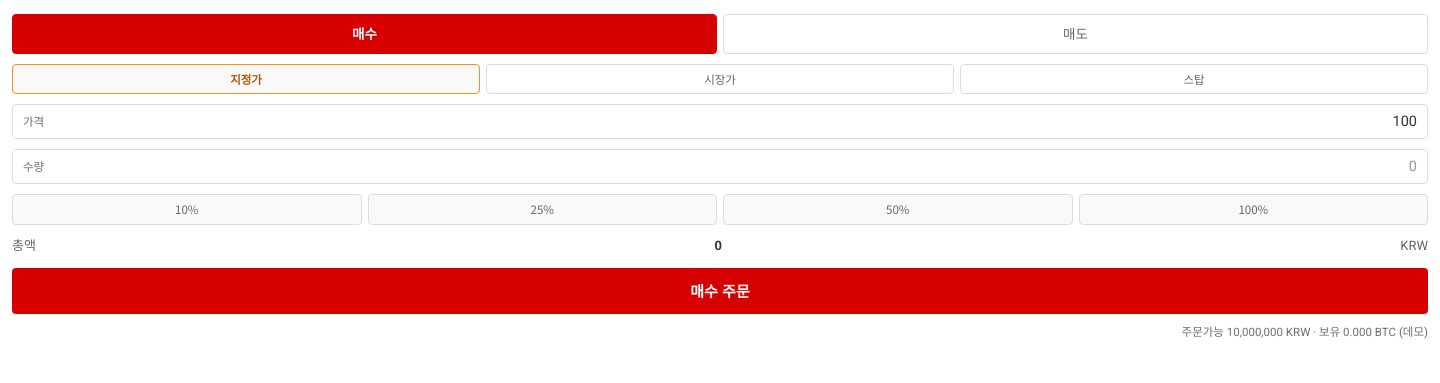
Test: OrderForm - 주문 배선(E4) › 시장가 매수가 엔진으로 체결되어 잔고가 줄고 결과가 뜬다
This screenshot has width=1440, height=383.
Click the button "시장가" at (720, 79), box x1=486 y1=64 x2=954 y2=94
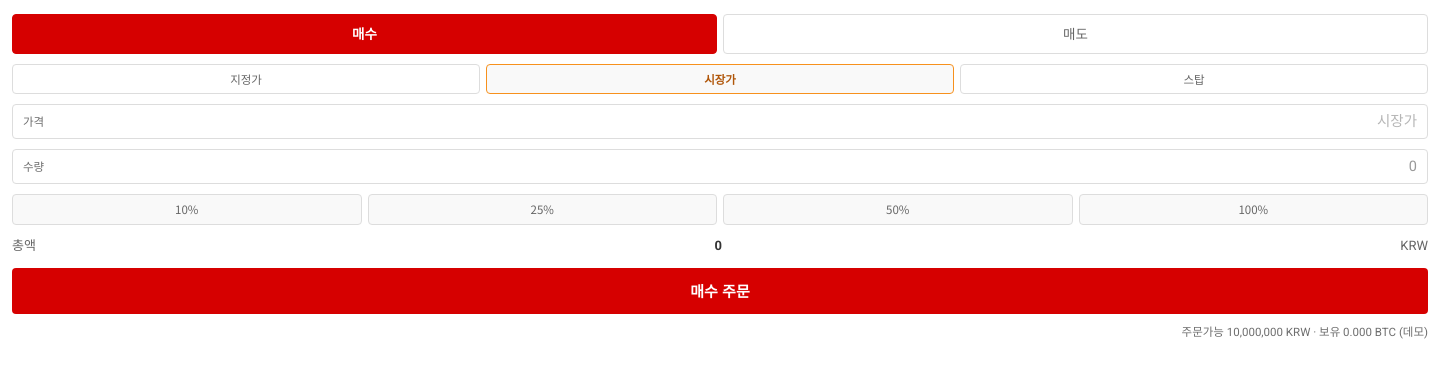
Type "1" into the field named "주문 수량 (BTC)" at (740, 167), box x1=63 y1=156 x2=1417 y2=177
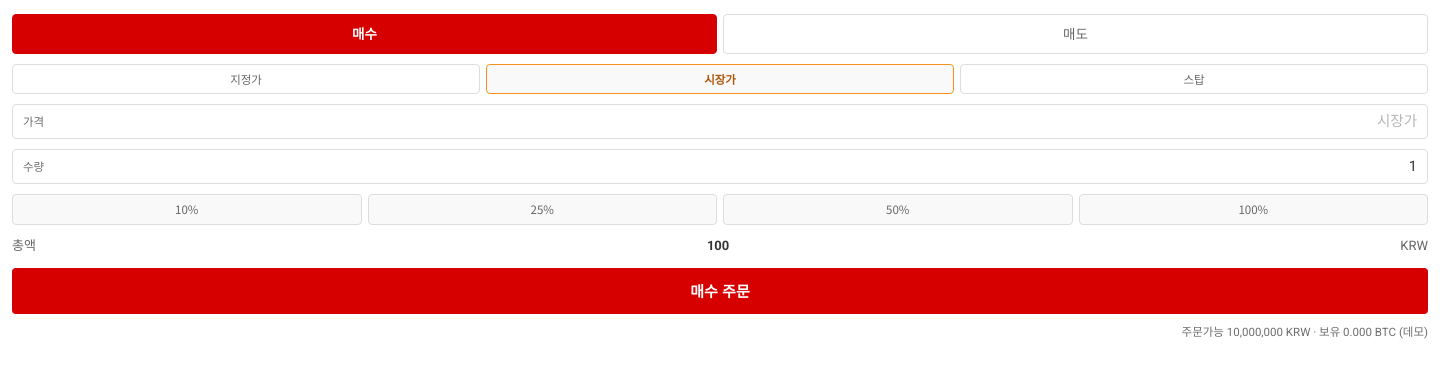
Click the button "매수 주문" at (720, 291), box x1=12 y1=268 x2=1428 y2=314
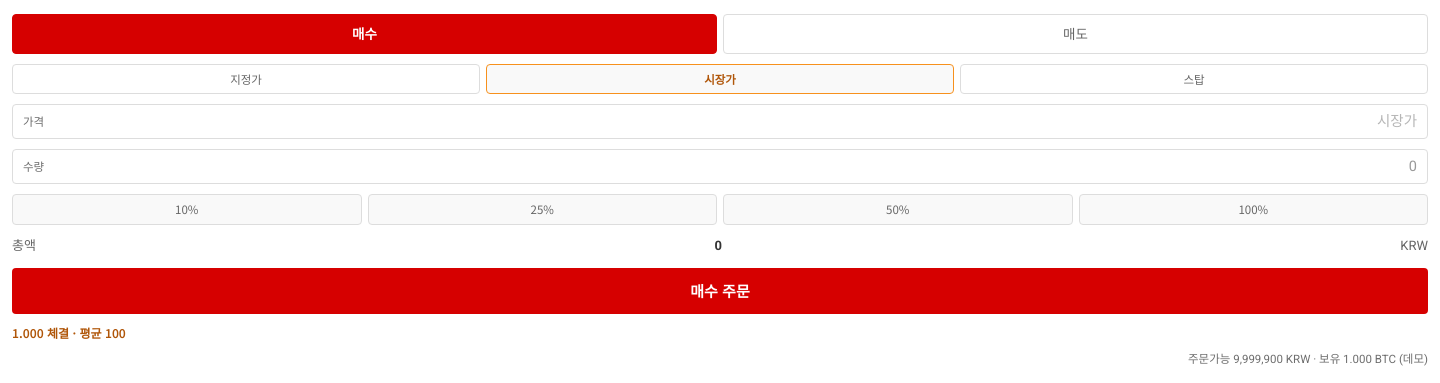
Check: the message shows "체결", box x1=12 y1=324 x2=126 y2=340
Check: the text "주문가능 9,999,900 KRW · 보유 1.000 BTC (데모)" is shown, box x1=1188 y1=352 x2=1428 y2=366
